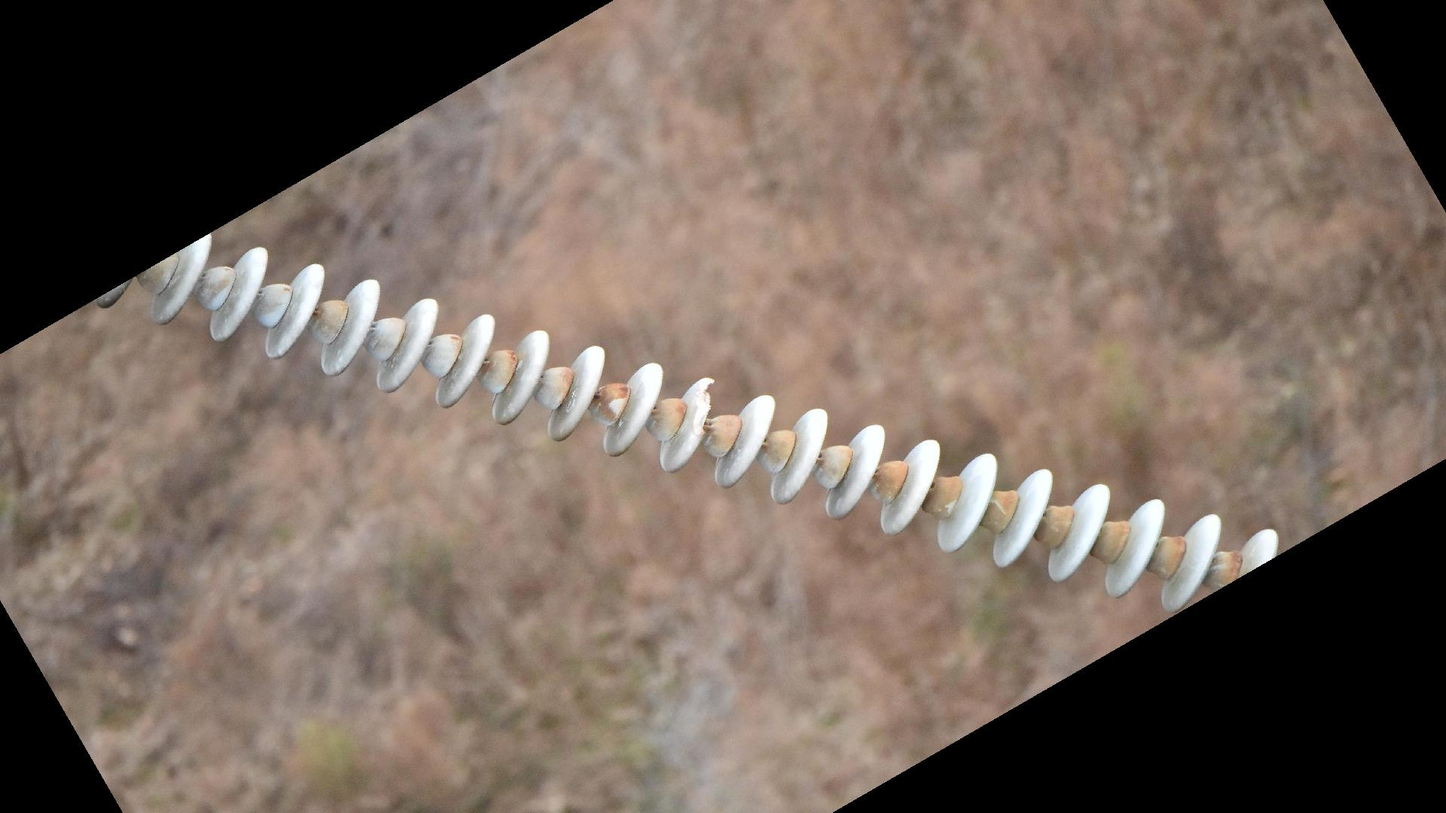insulator: (145, 230, 1283, 623)
insulator_breakage: (687, 375, 721, 441)
